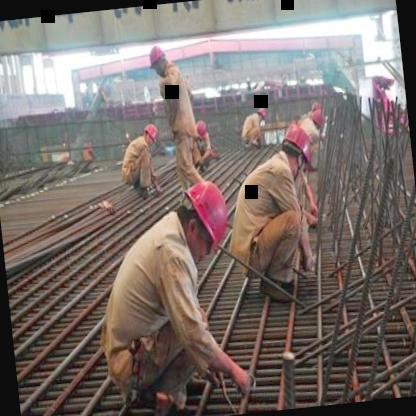helmet: (172, 173, 236, 263), (276, 118, 316, 181), (144, 40, 170, 78), (138, 119, 162, 148), (310, 106, 328, 130), (192, 116, 208, 142), (254, 103, 270, 121)
